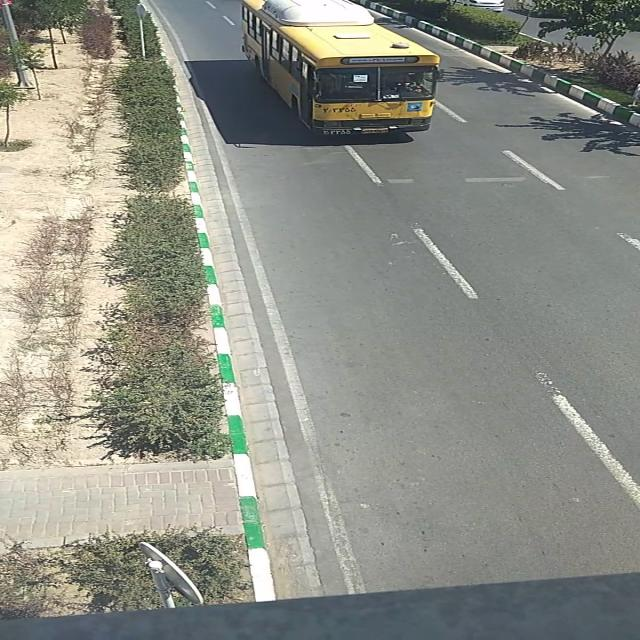bus: (241, 0, 442, 136)
car: (453, 0, 503, 13)
